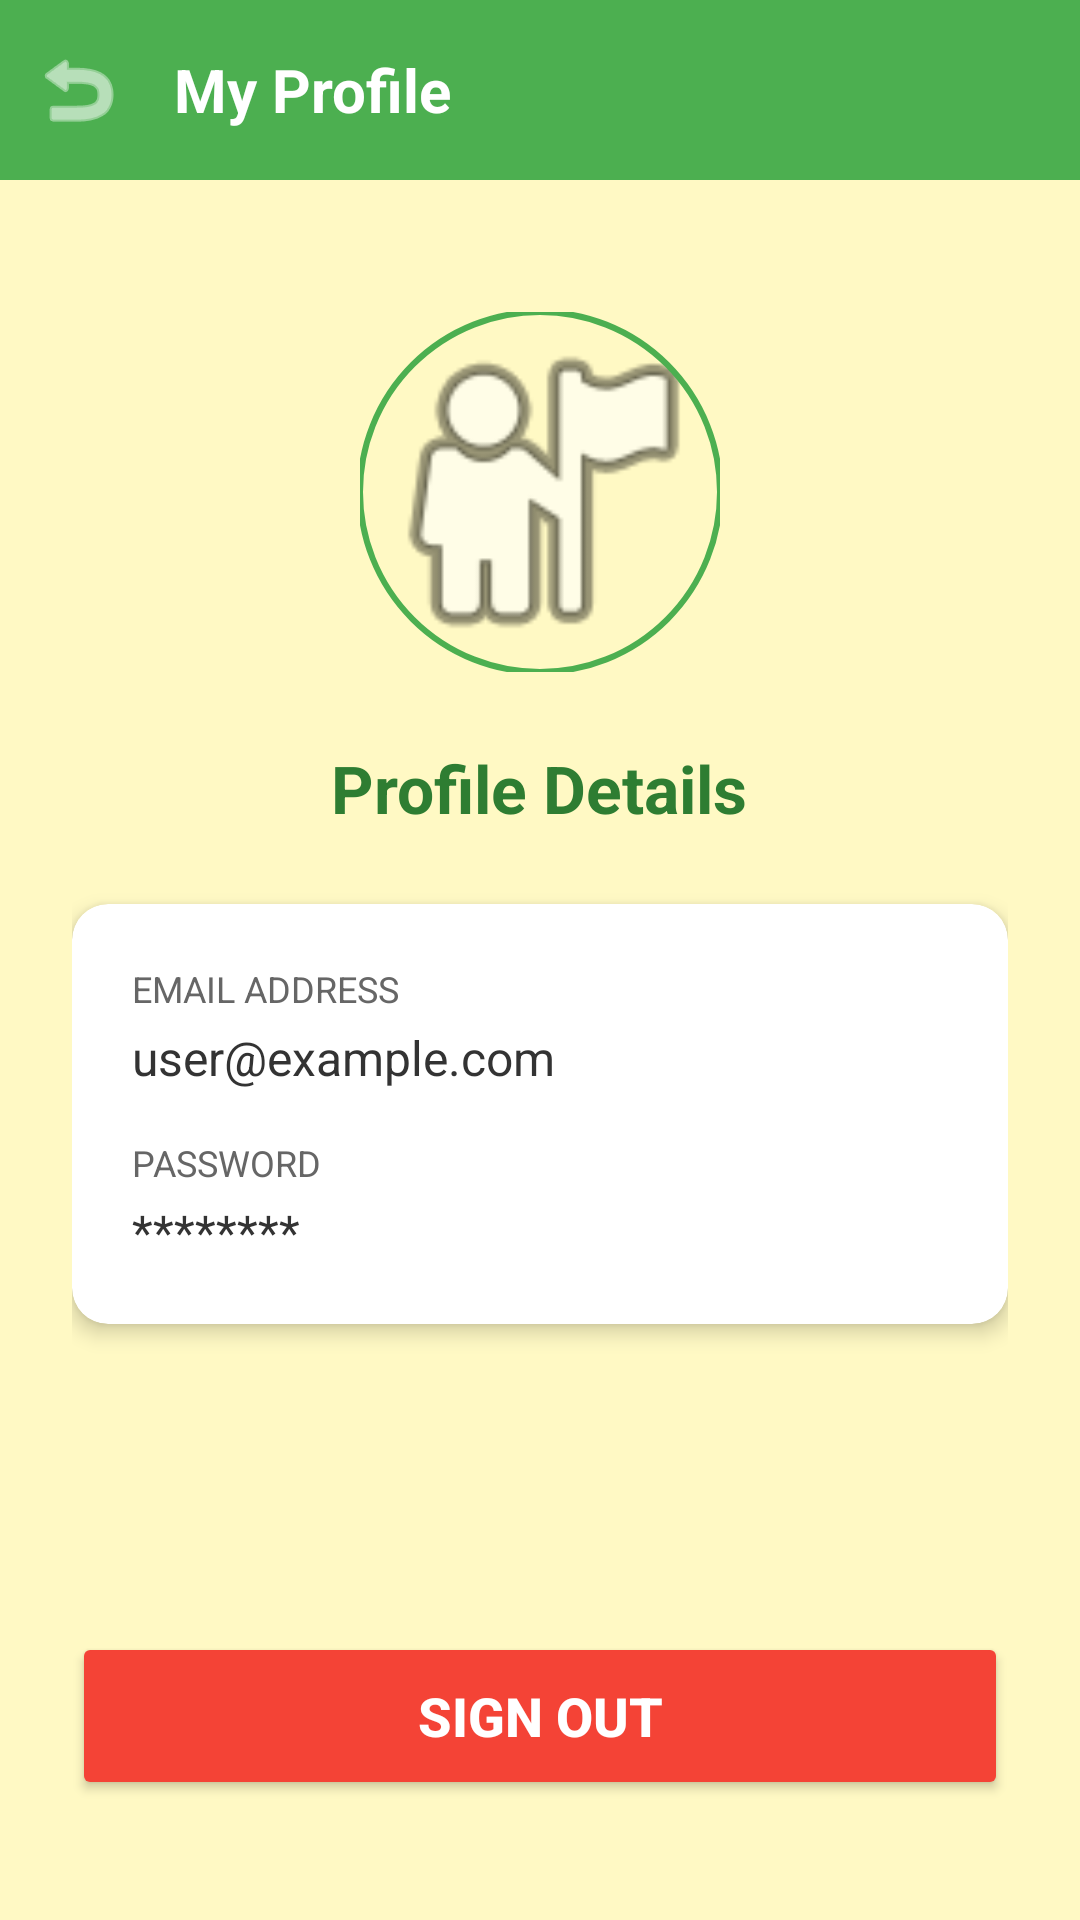

Named icons in this screenshot (1080w x 1920h) and their bounding boxes, (x1, y1, x2, y2):
Back: (45, 59, 114, 122)
myplaces: (360, 312, 720, 672)
